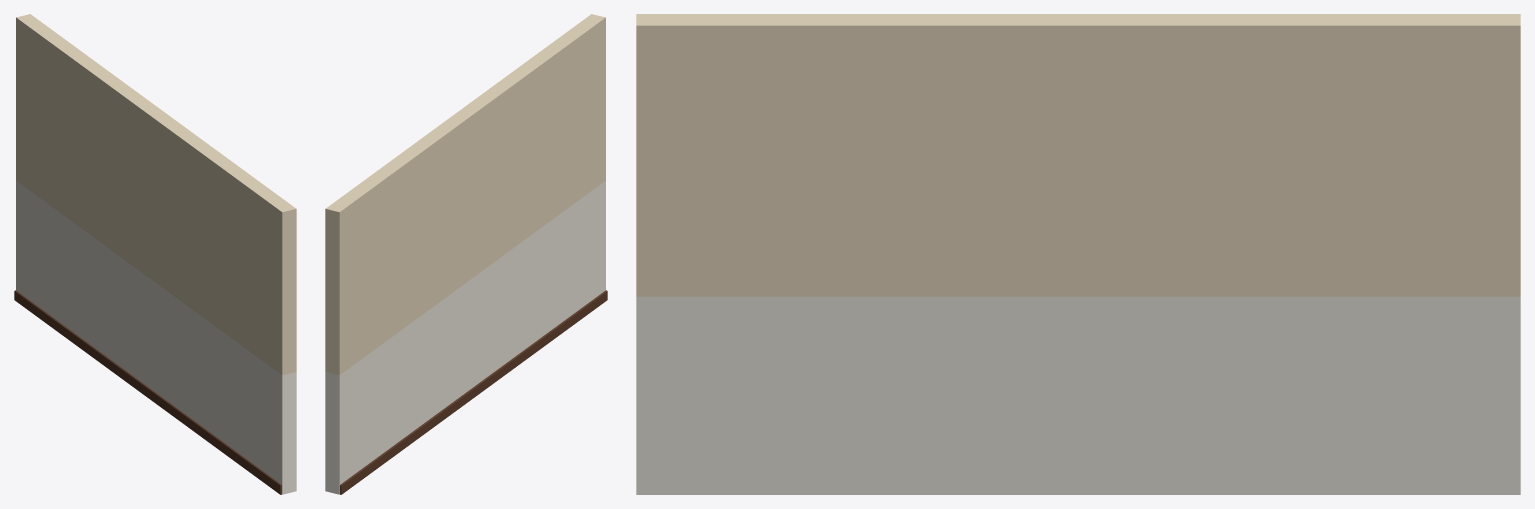
Rendered from noodle_shop_shell_wall_x.glb.
3 views of the same model, side by side, from view 1: azimuth 30°, elevation 25°; view 2: azimuth 150°, elevation 25°; view 3: azimuth 270°, elevation 25° (orthographic). The views are drawn at different scales.
Parts seen in each view (by area): view 1: noodle_shop_shell_wall_x; view 2: noodle_shop_shell_wall_x; view 3: noodle_shop_shell_wall_x.
Part boxes in pixels (bbox=[...]): noodle_shop_shell_wall_x: bbox=[14, 14, 296, 494]; noodle_shop_shell_wall_x: bbox=[325, 14, 607, 494]; noodle_shop_shell_wall_x: bbox=[636, 14, 1520, 494].
Bounding box in the file's own units: 0.17 × 2.84 × 4.85.
